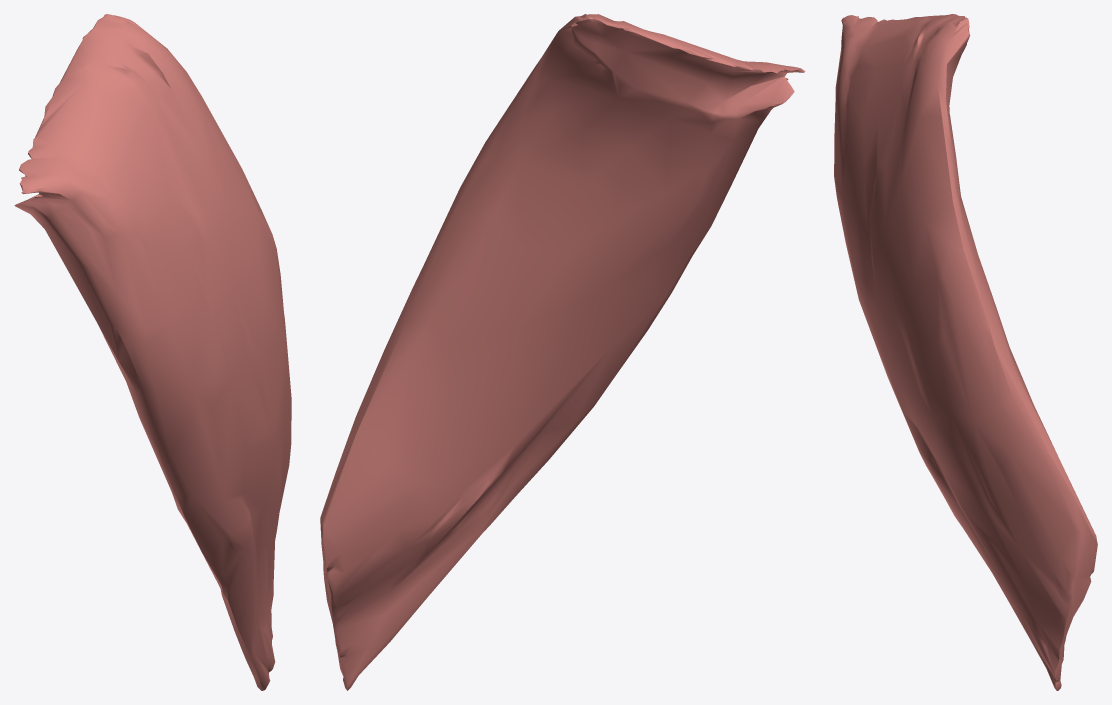
Rendered from fma22451_fj1427m.glb.
3 views of the same model, side by side, from view 1: azimuth 30°, elevation 25°; view 2: azimuth 150°, elevation 25°; view 3: azimuth 270°, elevation 25° (orthographic). The views are drawn at different scales.
Visible parts, largest first — view 1: FMA22451_FJ1427M; view 2: FMA22451_FJ1427M; view 3: FMA22451_FJ1427M.
Boxes of the visible parts, left/top/right/bottom form: FMA22451_FJ1427M: left=14, top=14, right=291, bottom=690; FMA22451_FJ1427M: left=320, top=14, right=805, bottom=690; FMA22451_FJ1427M: left=834, top=14, right=1097, bottom=690.
Bounding box in the file's own units: 0.0758 × 0.1407 × 0.0568.
